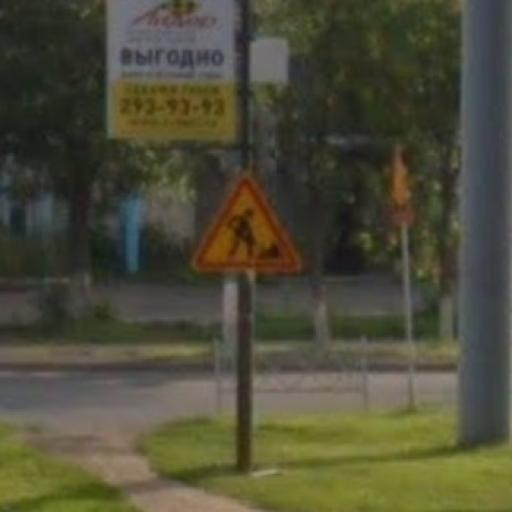traffic_sign: (190, 169, 307, 284)
